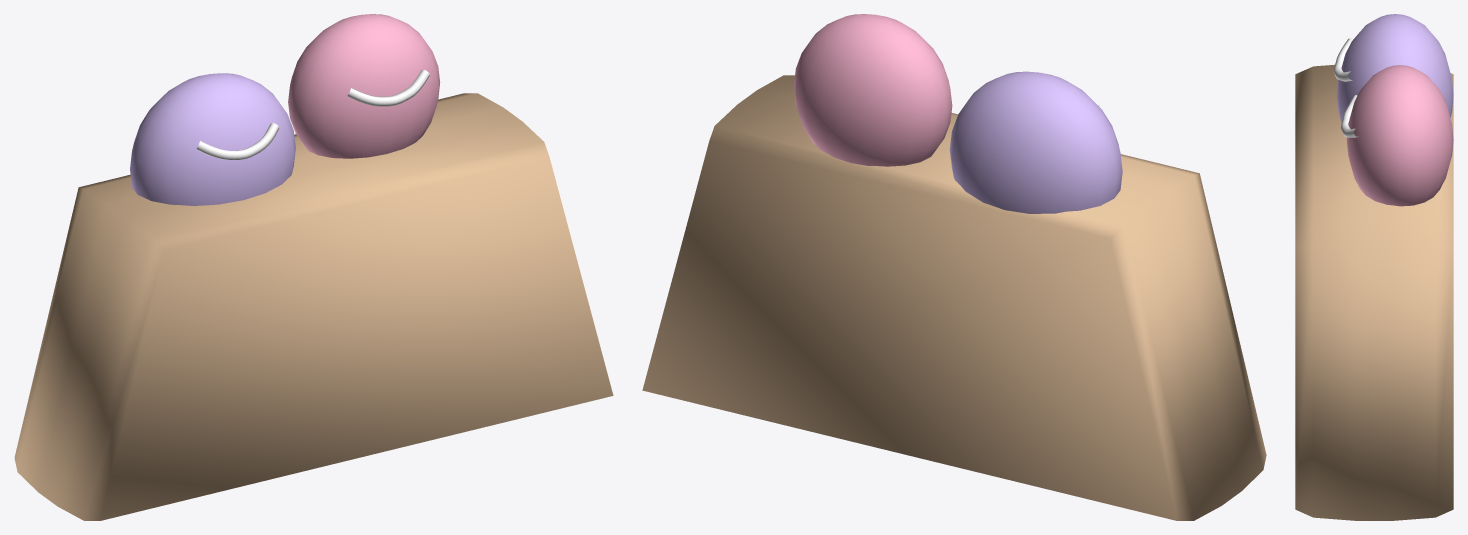
The model's file is decor_4_classic.glb.
The picture shows the model from 3 angles, left to right: view 1: azimuth 30°, elevation 25°; view 2: azimuth 150°, elevation 25°; view 3: azimuth 270°, elevation 25°; orthographic projection. The views are drawn at different scales.
Visible parts, largest first — view 1: decor_4_classic; view 2: decor_4_classic; view 3: decor_4_classic.
Boxes of the visible parts, x1,y1,x2,y2 form: decor_4_classic: [14, 14, 613, 520]; decor_4_classic: [642, 14, 1266, 520]; decor_4_classic: [1295, 14, 1453, 520].
Size of the model in its own units: 8.3 by 5.81 by 2.33.
